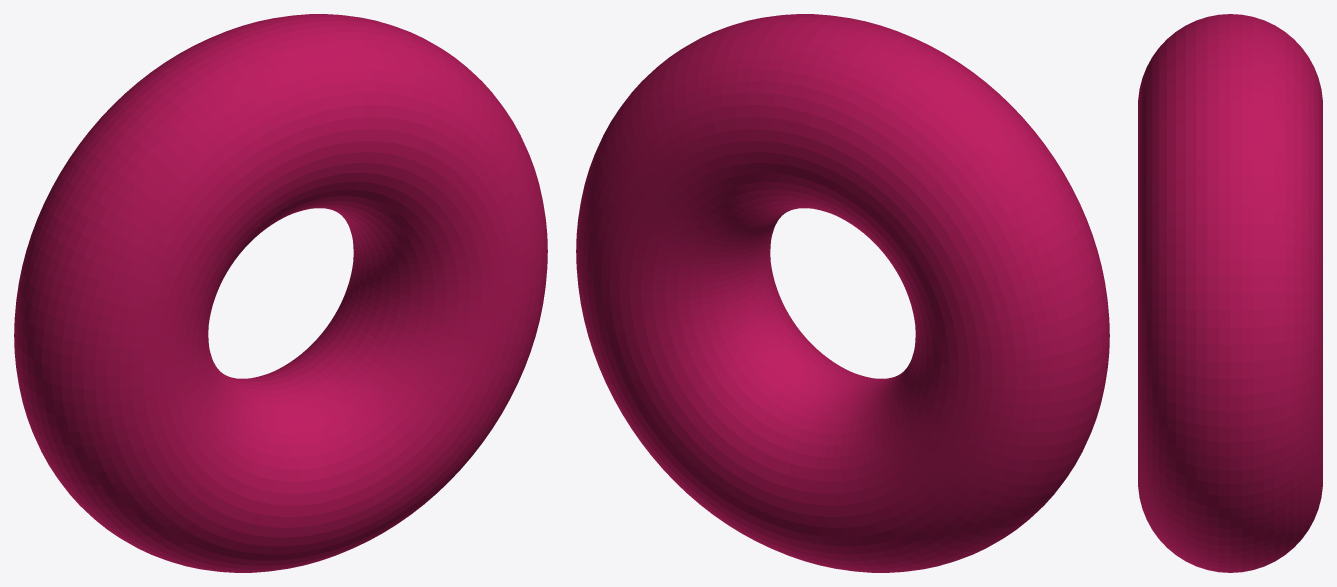
The picture shows the model from 3 angles, left to right: view 1: azimuth 30°, elevation 25°; view 2: azimuth 150°, elevation 25°; view 3: azimuth 270°, elevation 25°; orthographic projection. The views are drawn at different scales.
Parts seen in each view (by area): view 1: world; view 2: world; view 3: world.
Boxes of the visible parts, x1,y1,x2,y2 form: world: (14,14,547,572); world: (576,14,1109,572); world: (1138,14,1322,572).
Size of the model in its own units: 22.93 by 22.93 by 7.59.
